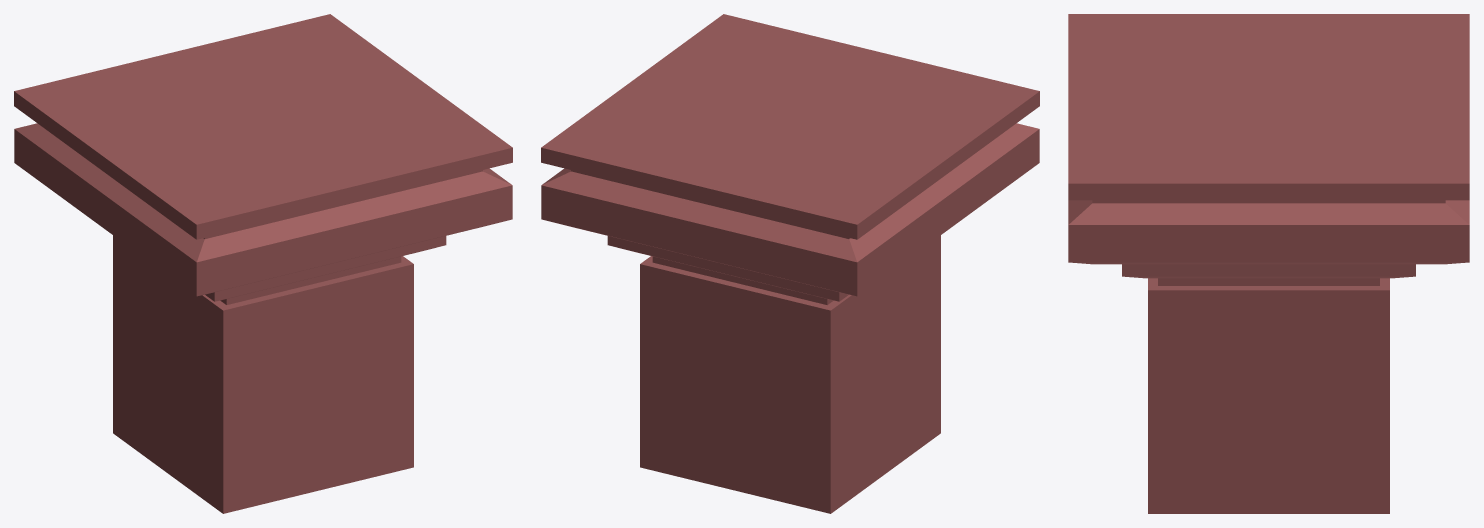
Rendered from colon3_top.fbx.
3 renders of one model, left to right at view 1: azimuth 30°, elevation 25°; view 2: azimuth 150°, elevation 25°; view 3: azimuth 270°, elevation 25°, orthographic. The views are drawn at different scales.
Visible parts, largest first — view 1: colon3_top; view 2: colon3_top; view 3: colon3_top.
Part boxes in pixels (x1,y1,x2,y2): colon3_top: [14, 14, 512, 513]; colon3_top: [541, 14, 1039, 513]; colon3_top: [1068, 14, 1469, 513].
Bounding box in the file's own units: 1 × 1 × 1.
